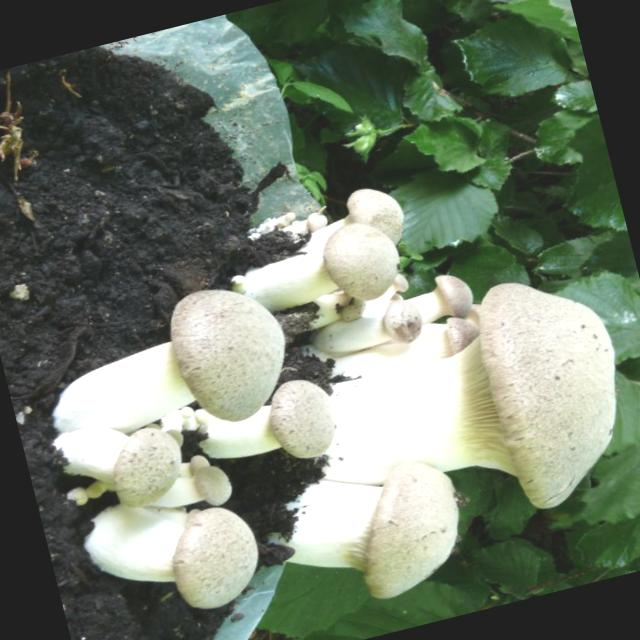Pleurotus eryngii: (299, 264, 640, 558), (26, 274, 312, 522), (266, 447, 474, 616), (81, 482, 268, 633), (229, 184, 420, 328)
